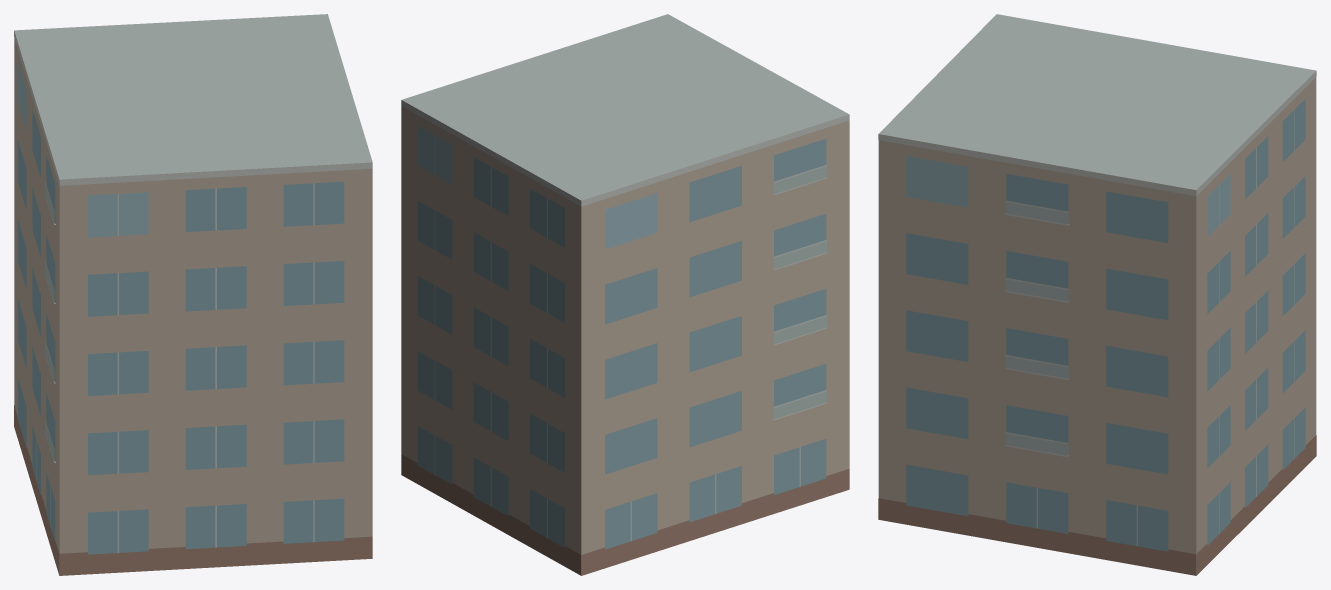
The model's file is survey-upis-32983357.glb.
The picture shows the model from 3 angles, left to right: view 1: azimuth 30°, elevation 25°; view 2: azimuth 150°, elevation 25°; view 3: azimuth 270°, elevation 25°; orthographic projection. The views are drawn at different scales.
Visible parts, largest first — view 1: survey-upis-32983357.tmp; view 2: survey-upis-32983357.tmp; view 3: survey-upis-32983357.tmp.
Boxes of the visible parts, bbox=[...] form: survey-upis-32983357.tmp: bbox=[14, 14, 372, 575]; survey-upis-32983357.tmp: bbox=[401, 14, 849, 575]; survey-upis-32983357.tmp: bbox=[878, 14, 1316, 575].
Bounding box in the file's own units: 15.19 × 15.5 × 15.96.
